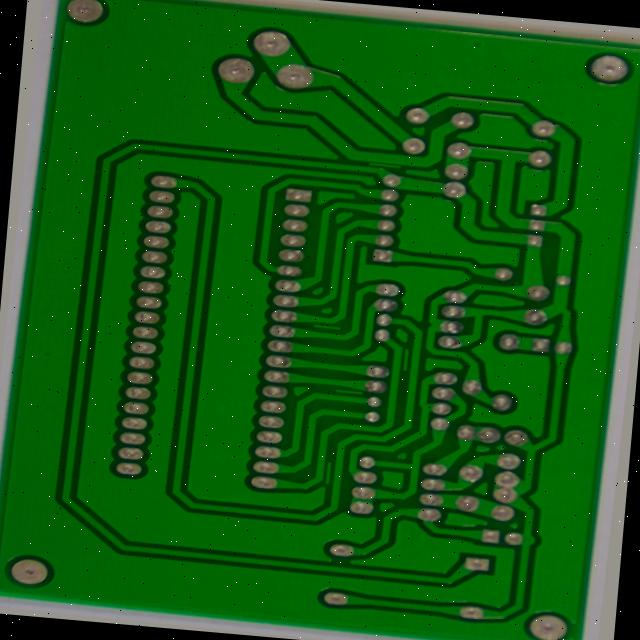spurious_copper: (361, 154, 408, 168), (331, 383, 372, 399), (398, 345, 417, 375), (325, 458, 342, 488), (309, 320, 347, 332)
